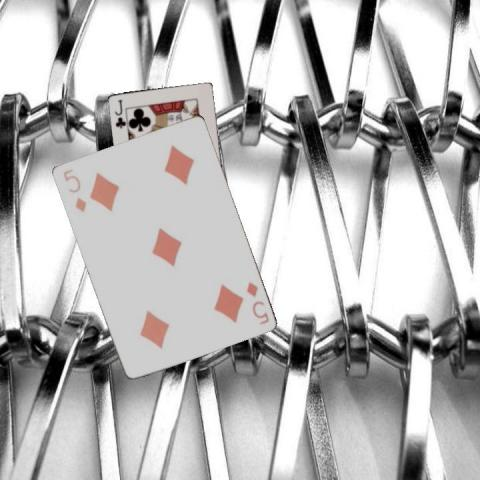5d: (60, 165, 88, 214), (243, 278, 270, 326)
Jc: (112, 97, 127, 130)
